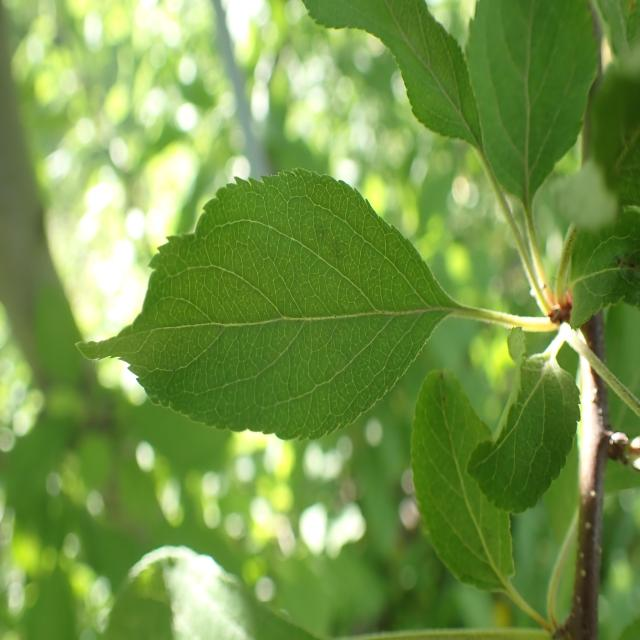healthy: (75, 168, 456, 443), (464, 0, 600, 207), (301, 0, 482, 149), (410, 368, 515, 594), (466, 326, 582, 515), (561, 205, 640, 329)
